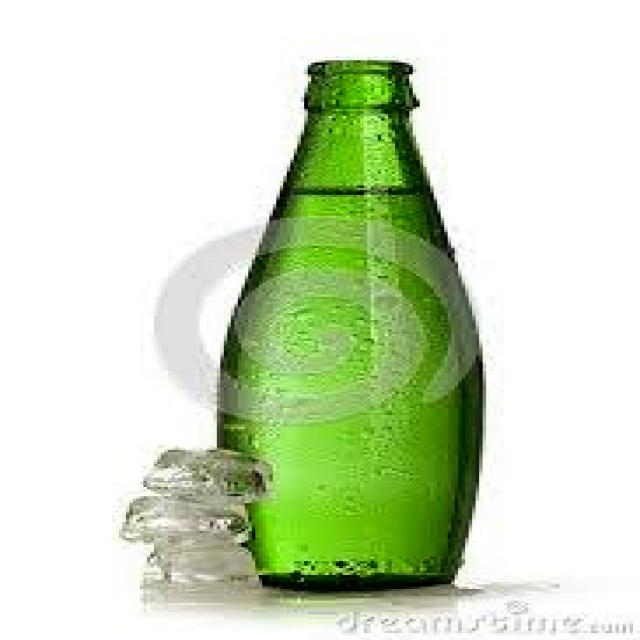Glass: (208, 55, 492, 601)
